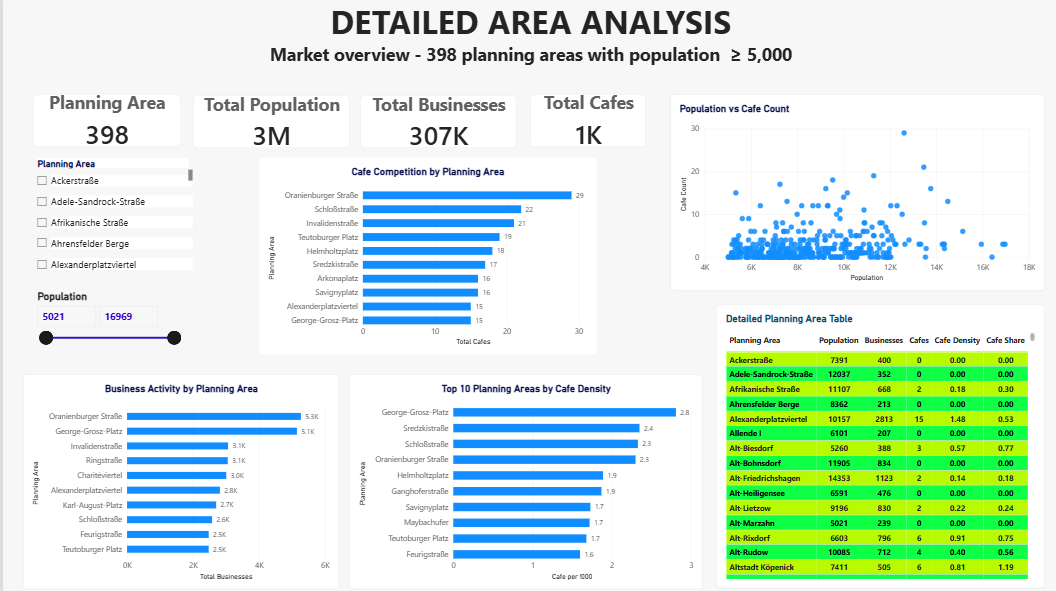

Layout of this report page (visuals, bound fields, positions):
{"tool":"powerbi","page":{"name":"Detailed Area Analysis","canvas":[1920,1080],"ordinal":1},"visuals":[{"type":"clusteredBarChart","title":"Top 10 Planning Areas by Cafe Density","fields":{"Category":["cafe_location_analysis.Planungsraum"],"Y":["Sum(cafe_location_analysis.cafes_per_1000)"]},"box":[629.8,680.9,642.6,391.5],"z":0},{"type":"clusteredBarChart","title":"Cafe Competition by Planning Area","fields":{"Category":["cafe_location_analysis.Planungsraum"],"Y":["Sum(cafe_location_analysis.cafe_count)"]},"box":[466.2,287.5,613.8,357.5],"z":1},{"type":"textbox","box":[200,0,1520,123.3],"z":2},{"type":"cardVisual","fields":{"Data":["Sum(cafe_location_analysis.cafe_count)"]},"box":[959.6,172.3,210,96.7],"z":3},{"type":"cardVisual","fields":{"Data":["CountNonNull(cafe_location_analysis.RAUMID)"]},"box":[55.3,172.3,268.3,96.7],"z":4},{"type":"cardVisual","fields":{"Data":["Sum(cafe_location_analysis.population)"]},"box":[344.7,174.5,285,96.7],"z":5},{"type":"cardVisual","fields":{"Data":["Sum(cafe_location_analysis.total_businesses)"]},"box":[648.9,174.5,283.3,96.7],"z":6},{"type":"scatterChart","title":"Population vs Cafe Count ","fields":{"Category":["cafe_location_analysis.Planungsraum"],"X":["Sum(cafe_location_analysis.population)"],"Y":["Sum(cafe_location_analysis.cafe_count)"]},"box":[1212.8,172.3,680.9,357.4],"z":7},{"type":"clusteredBarChart","title":"Business Activity by Planning Area","fields":{"Category":["cafe_location_analysis.Planungsraum"],"Y":["Sum(cafe_location_analysis.total_businesses)"]},"box":[36.2,680.9,574.5,391.5],"z":8},{"type":"tableEx","title":"Detailed Planning Area Table","fields":{"Values":["cafe_location_analysis.Planungsraum","Sum(cafe_location_analysis.population)","Sum(cafe_location_analysis.total_businesses)","Sum(cafe_location_analysis.cafe_count)","Sum(cafe_location_analysis.cafes_per_1000)","Sum(cafe_location_analysis.cafe_share_percent)"]},"box":[1297.9,555.3,595.7,517],"z":9},{"type":"slicer","fields":{"Values":["cafe_location_analysis.Planungsraum"]},"box":[55,287.5,290,210],"z":10},{"type":"slicer","fields":{"Values":["cafe_location_analysis.population"]},"box":[55,530,272.5,140],"z":11}]}

Visuals, with their boxes in screenshot pixels (x1, y1, x2, y2), scaled from the page's 1920x1080 canvas onto the 1056x591 screenshot:
"Top 10 Planning Areas by Cafe Density" clusteredBarChart: select_region(346, 373, 700, 587)
"Cafe Competition by Planning Area" clusteredBarChart: select_region(256, 157, 594, 353)
textbox: select_region(110, 0, 946, 67)
cardVisual - Sum(cafe_location_analysis.cafe_count): select_region(528, 94, 643, 147)
cardVisual - CountNonNull(cafe_location_analysis.RAUMID): select_region(30, 94, 178, 147)
cardVisual - Sum(cafe_location_analysis.population): select_region(190, 95, 346, 148)
cardVisual - Sum(cafe_location_analysis.total_businesses): select_region(357, 95, 513, 148)
"Population vs Cafe Count " scatterChart: select_region(667, 94, 1042, 290)
"Business Activity by Planning Area" clusteredBarChart: select_region(20, 373, 336, 587)
"Detailed Planning Area Table" tableEx: select_region(714, 304, 1041, 587)
slicer - cafe_location_analysis.Planungsraum: select_region(30, 157, 190, 272)
slicer - cafe_location_analysis.population: select_region(30, 290, 180, 367)
